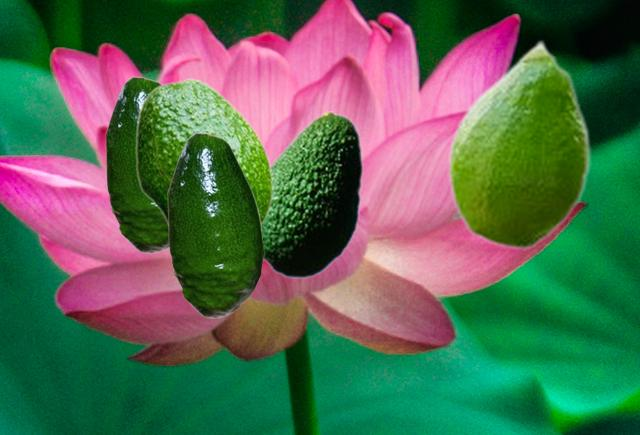avocado: (447, 38, 590, 249), (134, 77, 272, 227), (167, 132, 263, 317), (263, 111, 362, 278), (105, 76, 167, 252)
